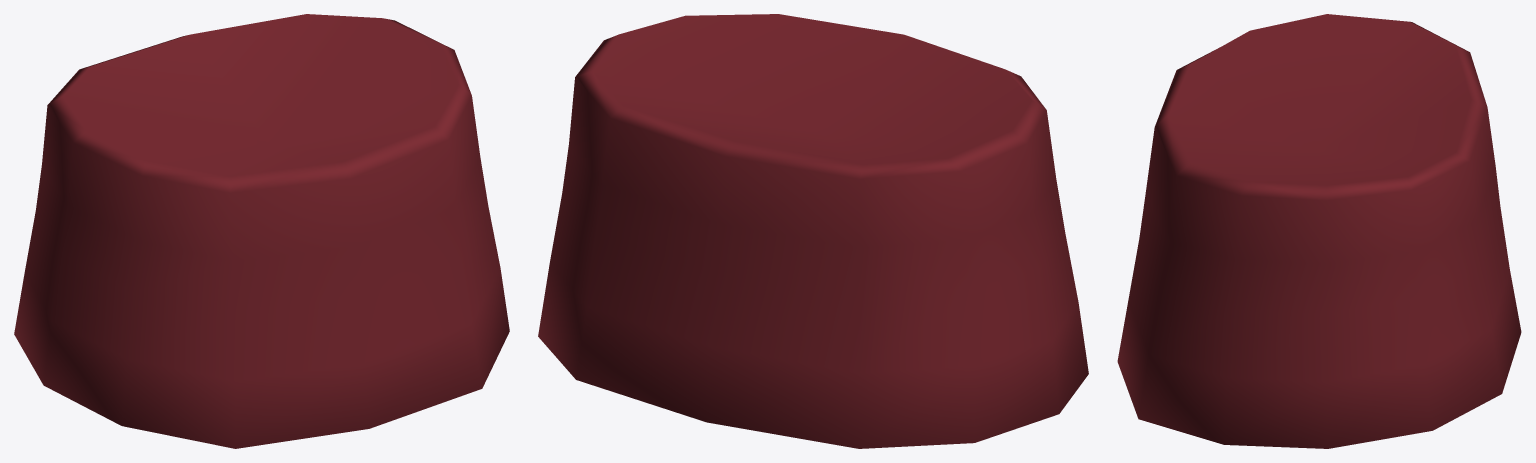
Rendered from Bottom_54.fbx.
3 views of the same model, side by side, from view 1: azimuth 30°, elevation 25°; view 2: azimuth 150°, elevation 25°; view 3: azimuth 270°, elevation 25° (orthographic). The views are drawn at different scales.
Parts seen in each view (by area): view 1: Bottom_54; view 2: Bottom_54; view 3: Bottom_54.
Boxes of the visible parts, x1,y1,x2,y2 form: Bottom_54: [14, 14, 509, 448]; Bottom_54: [538, 14, 1088, 448]; Bottom_54: [1117, 14, 1521, 448].
Size of the model in its own units: 44.44 by 25.55 by 35.63.
